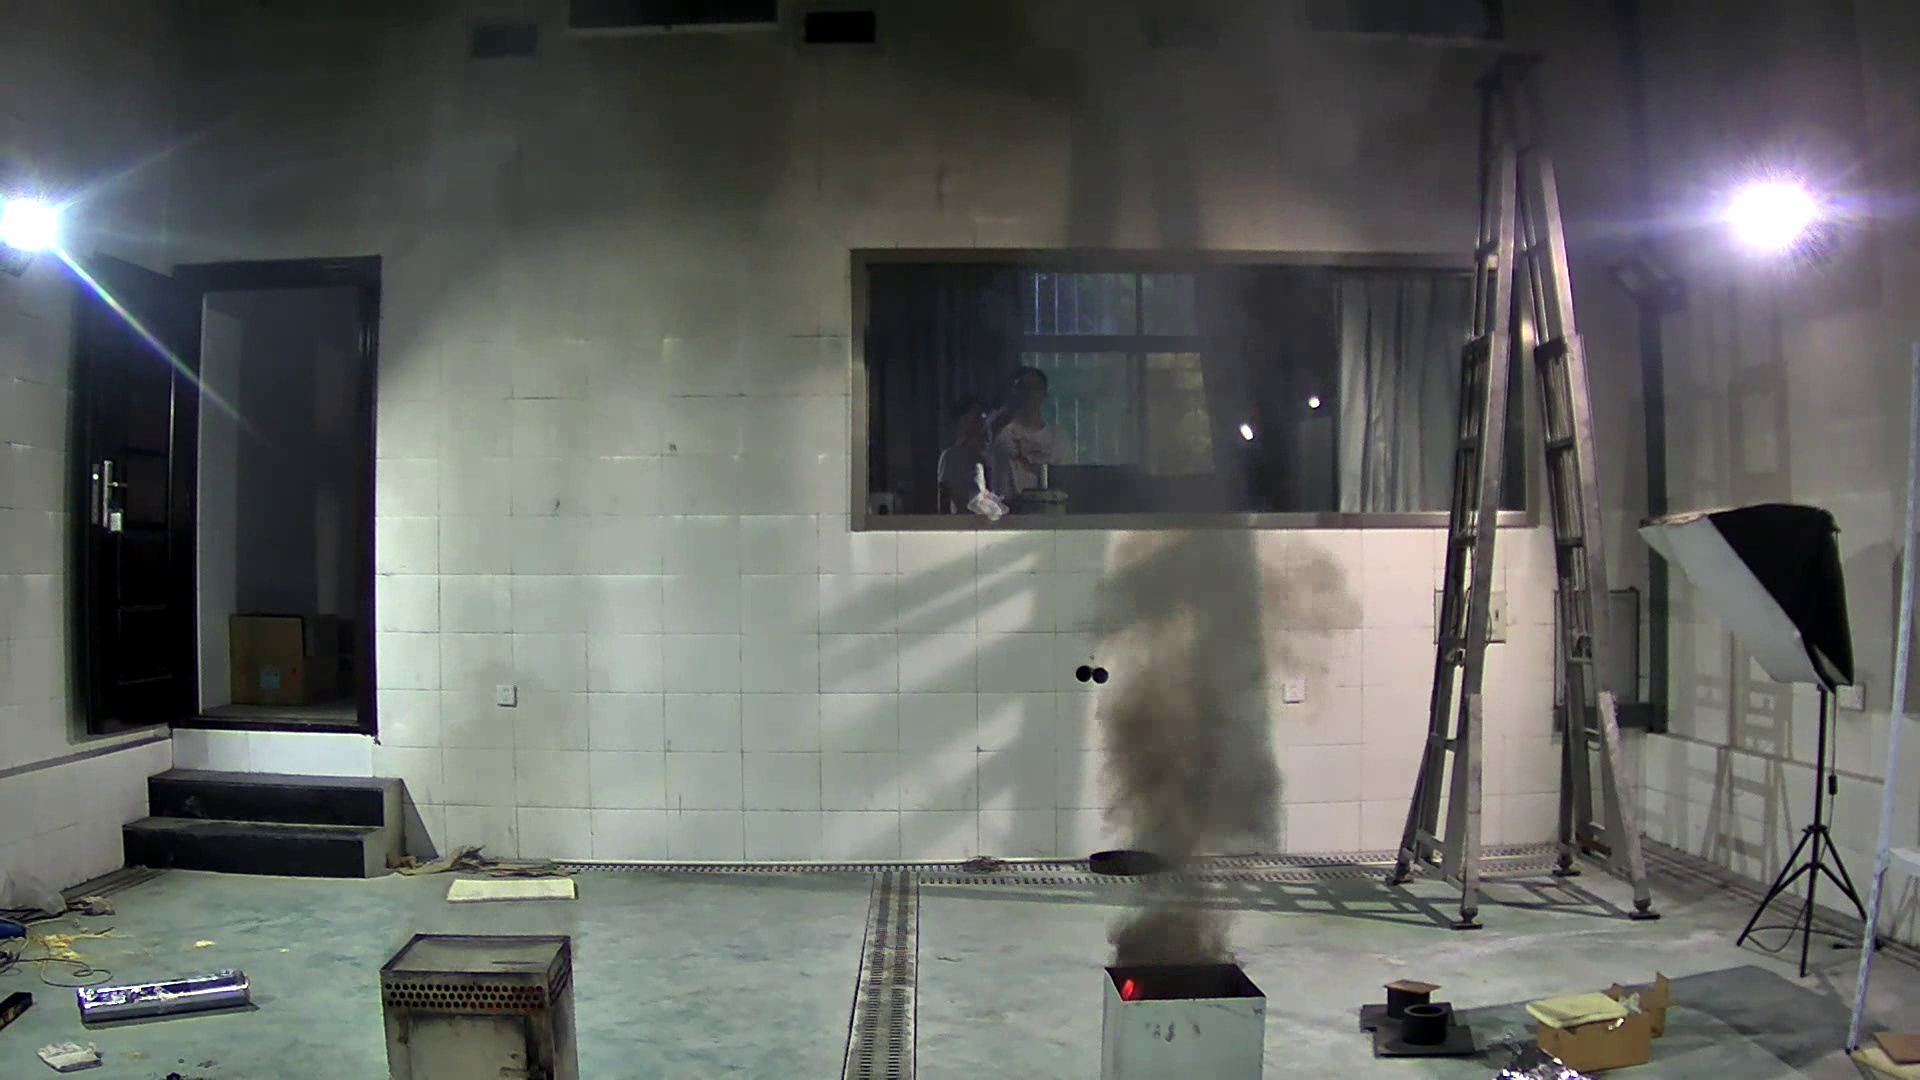smoke: (1095, 526, 1371, 957)
